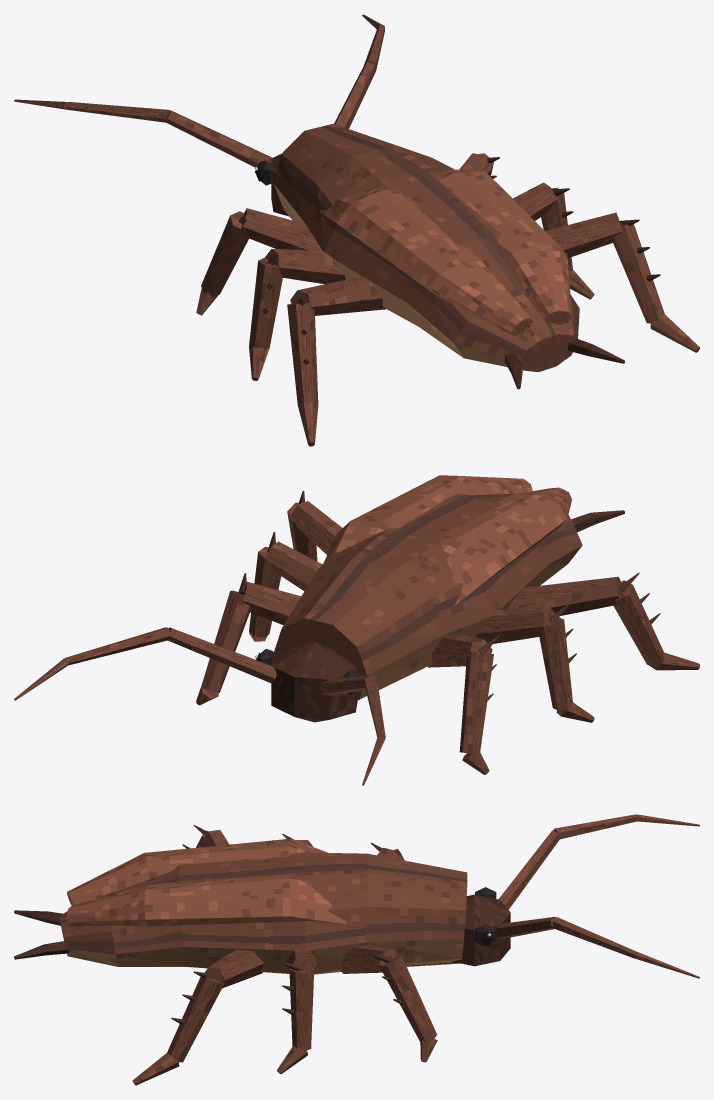
Rendered from mon_large_cockroach.glb.
3 views of the same model, one above another, from view 1: azimuth 30°, elevation 25°; view 2: azimuth 150°, elevation 25°; view 3: azimuth 270°, elevation 25° (orthographic). The views are drawn at different scales.
Visible parts, largest first — view 1: closed_body; view 2: closed_body; view 3: closed_body.
Part boxes in pixels (left/top/right/bottom): closed_body: left=14, top=14, right=699, bottom=446; closed_body: left=14, top=475, right=699, bottom=785; closed_body: left=14, top=814, right=699, bottom=1085.
Bounding box in the file's own units: 0.7677 × 0.2896 × 1.3.
Materials: 1 (1 with a texture image).
